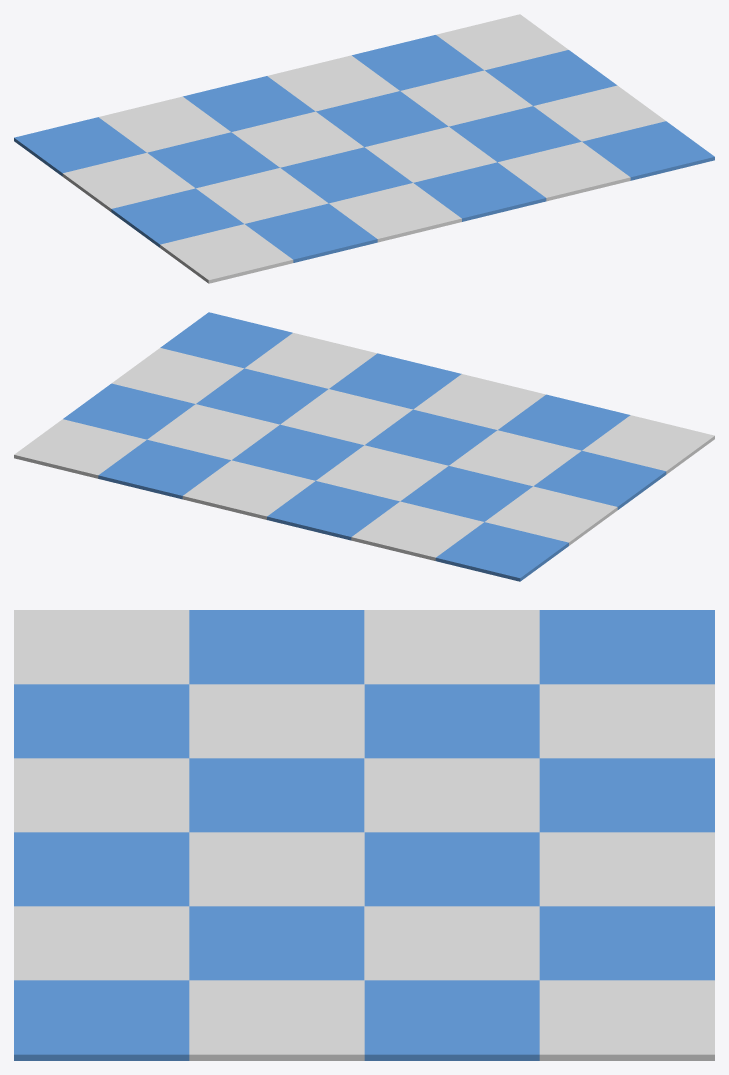
The model's file is Carpet_2.fbx.
3 renders of one model, top to bottom at view 1: azimuth 30°, elevation 25°; view 2: azimuth 150°, elevation 25°; view 3: azimuth 270°, elevation 25°, orthographic. The views are drawn at different scales.
Parts seen in each view (by area): view 1: Carpet_2; view 2: Carpet_2; view 3: Carpet_2.
Boxes of the visible parts, box(x1,y1,x2,y2) form: Carpet_2: box(14, 14, 714, 283); Carpet_2: box(14, 312, 714, 581); Carpet_2: box(14, 610, 714, 1060).
Size of the model in its own units: 3 by 2 by 0.02.
